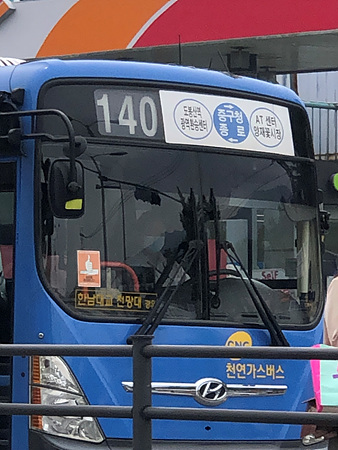bnum: (94, 90, 161, 139)
